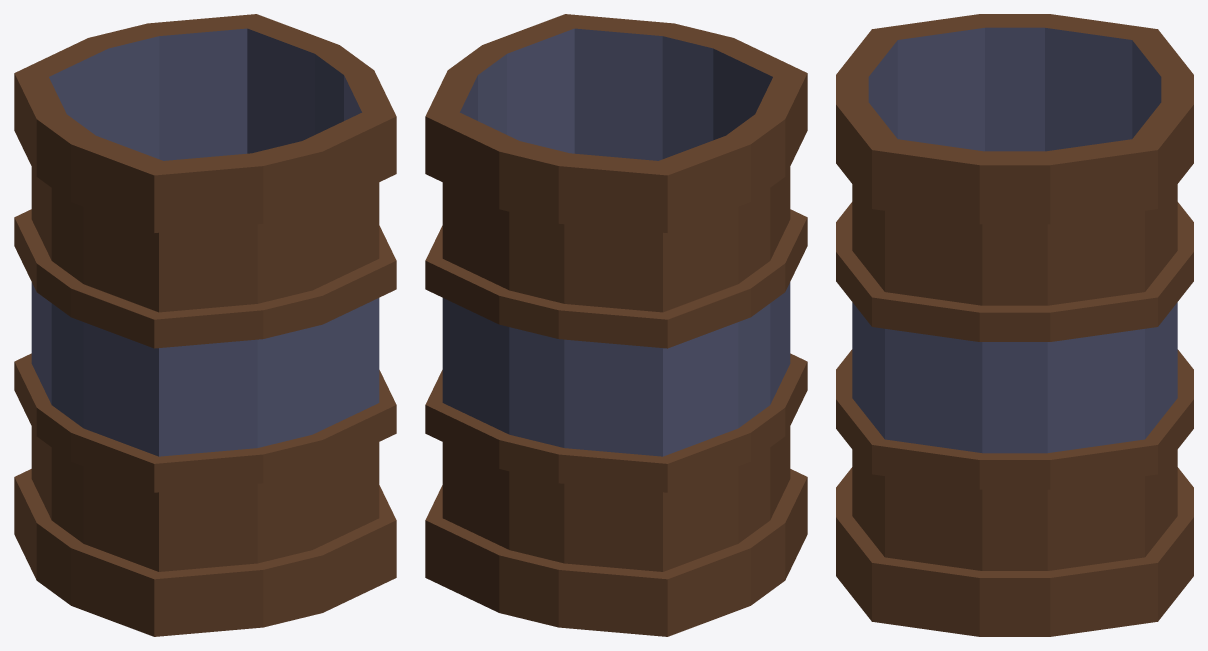
Rendered from kenney_survival-kit__barrel-open__cave.fbx.
The picture shows the model from 3 angles, left to right: view 1: azimuth 30°, elevation 25°; view 2: azimuth 150°, elevation 25°; view 3: azimuth 270°, elevation 25°; orthographic projection. The views are drawn at different scales.
Parts seen in each view (by area): view 1: kenney_survival-kit__barrel-open__cave_wood, kenney_survival-kit__barrel-open__cave_stone; view 2: kenney_survival-kit__barrel-open__cave_wood, kenney_survival-kit__barrel-open__cave_stone; view 3: kenney_survival-kit__barrel-open__cave_wood, kenney_survival-kit__barrel-open__cave_stone.
Boxes of the visible parts, <box> form: kenney_survival-kit__barrel-open__cave_wood: <box>14,14,396,636</box>; kenney_survival-kit__barrel-open__cave_stone: <box>31,28,379,456</box>; kenney_survival-kit__barrel-open__cave_wood: <box>425,14,807,636</box>; kenney_survival-kit__barrel-open__cave_stone: <box>442,28,790,456</box>; kenney_survival-kit__barrel-open__cave_wood: <box>836,14,1193,636</box>; kenney_survival-kit__barrel-open__cave_stone: <box>852,27,1177,453</box>.
Bounding box in the file's own units: 0.8446 × 1.23 × 0.8446.
Materials: 2 (2 with a texture image).
